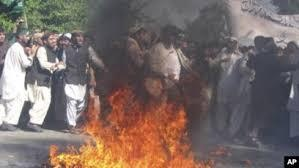fire: (47, 68, 205, 168)
